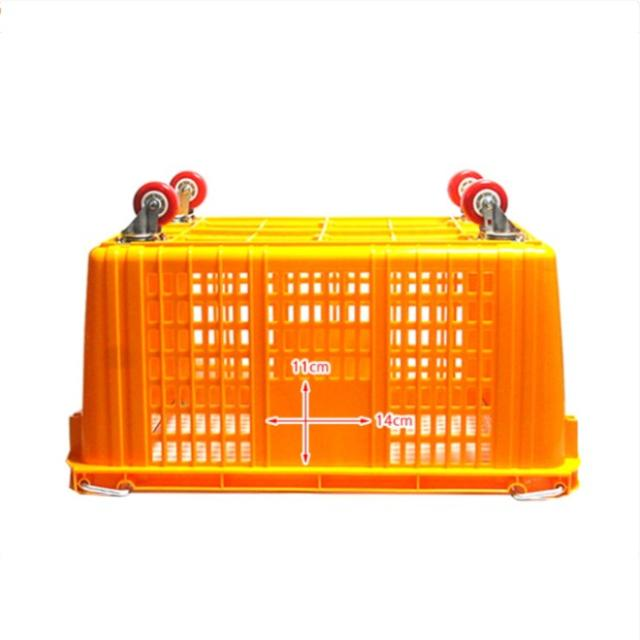basket: (68, 171, 581, 497)
